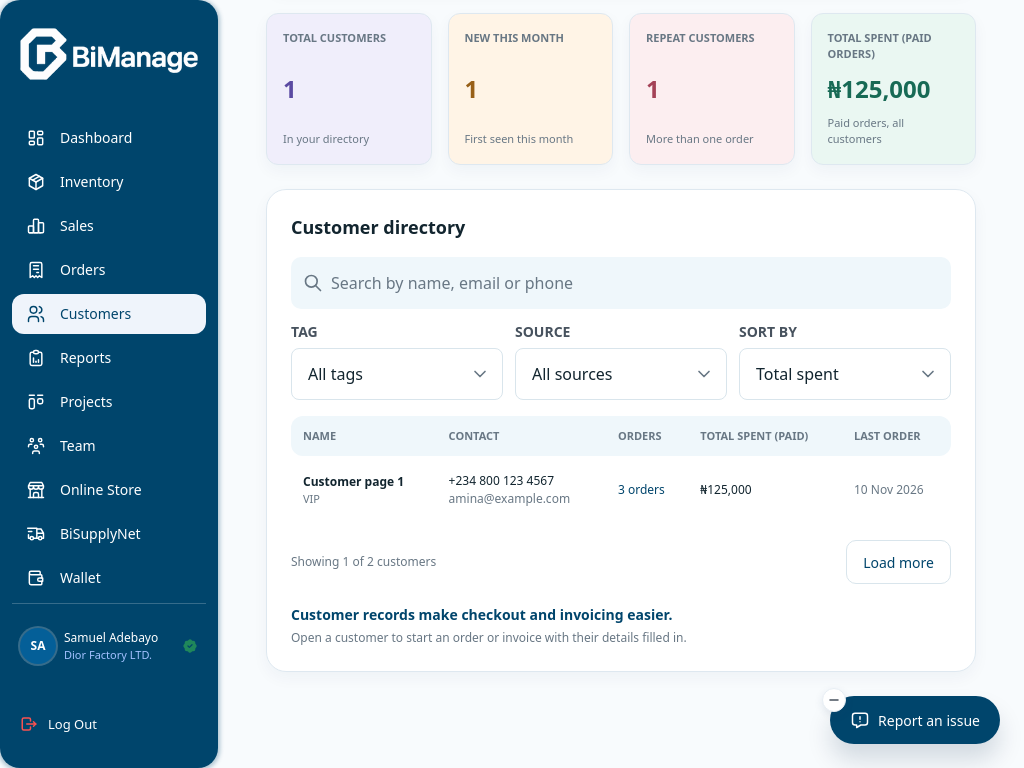
Test: customer directory (09.01) › Load more fetches the next page and keeps the first
(page scrolled)
Expected: the text "Showing 1 of 2 customers" is shown, [291,553,436,571]
Click the button "Load more": [899, 562] box [846,540,951,584]
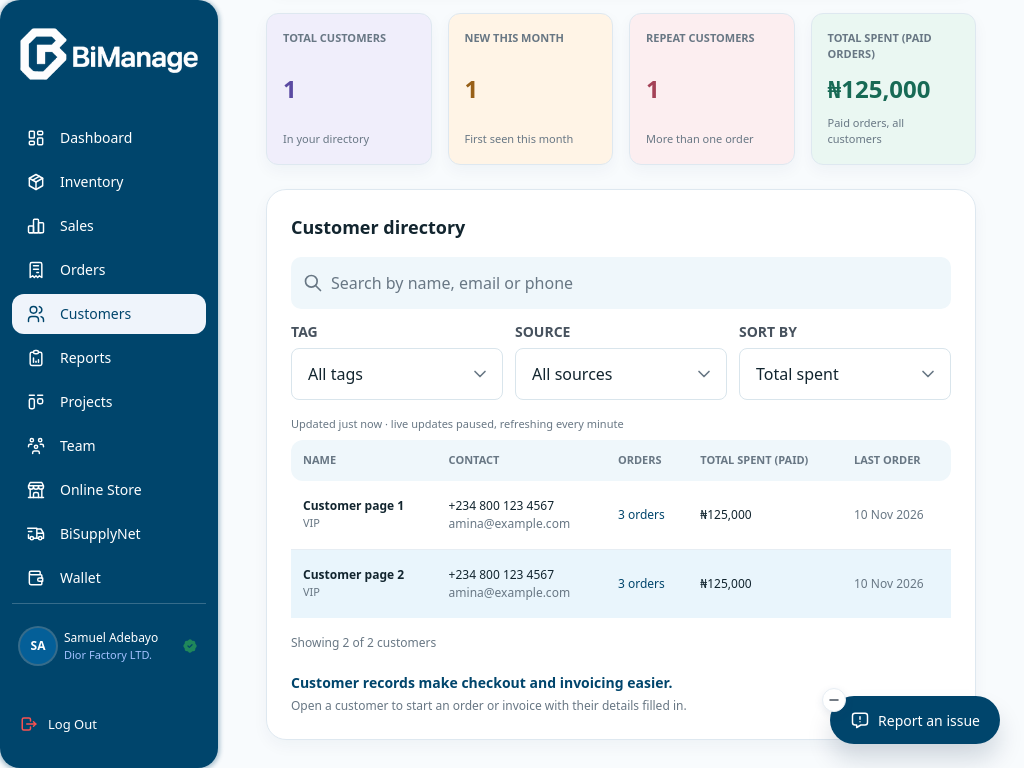
Expected: the button "Load more" is gone
